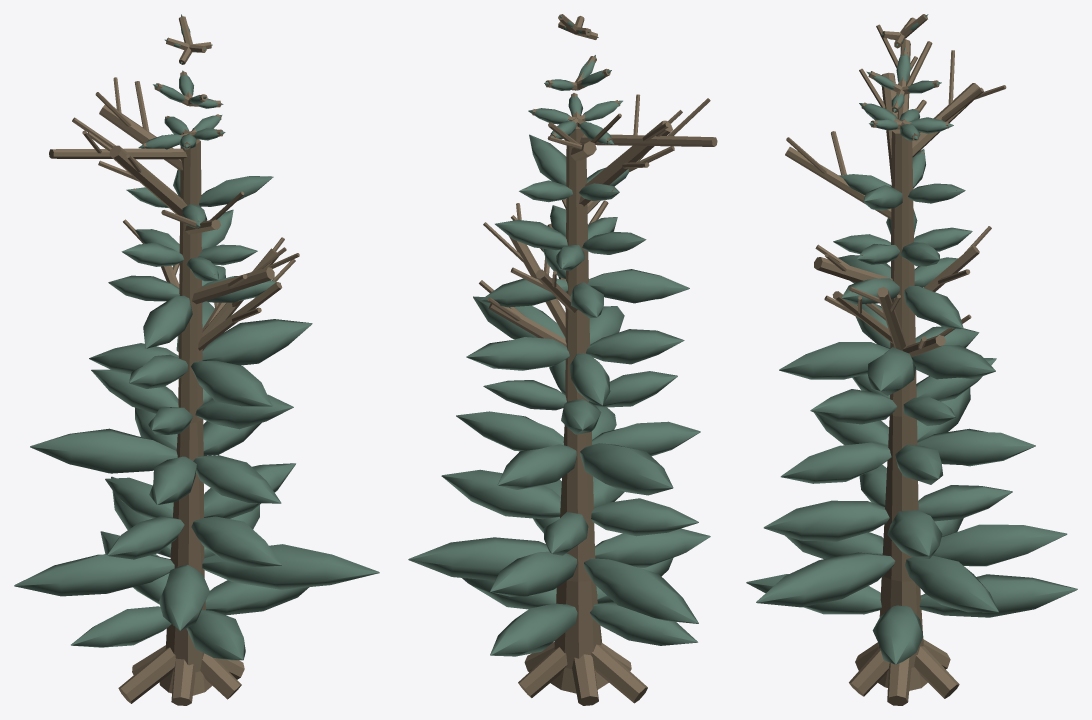
The model's file is conifer_b.glb.
3 renders of one model, left to right at view 1: azimuth 30°, elevation 25°; view 2: azimuth 150°, elevation 25°; view 3: azimuth 270°, elevation 25°, orthographic. The views are drawn at different scales.
Parts seen in each view (by area): view 1: conifer_b LOD0; view 2: conifer_b LOD0; view 3: conifer_b LOD0.
Part boxes in pixels (<box>): conifer_b LOD0: <box>14,14,379,705</box>; conifer_b LOD0: <box>408,14,717,705</box>; conifer_b LOD0: <box>746,14,1077,705</box>.
Size of what is drawn, in the model's own units: 5.09 by 11.56 by 5.15.
